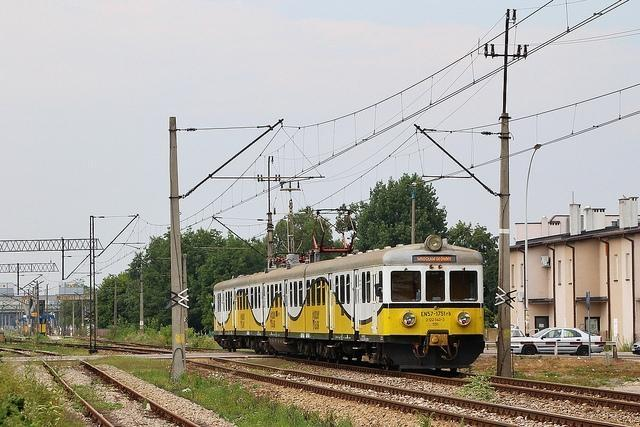car: (511, 328, 607, 356)
